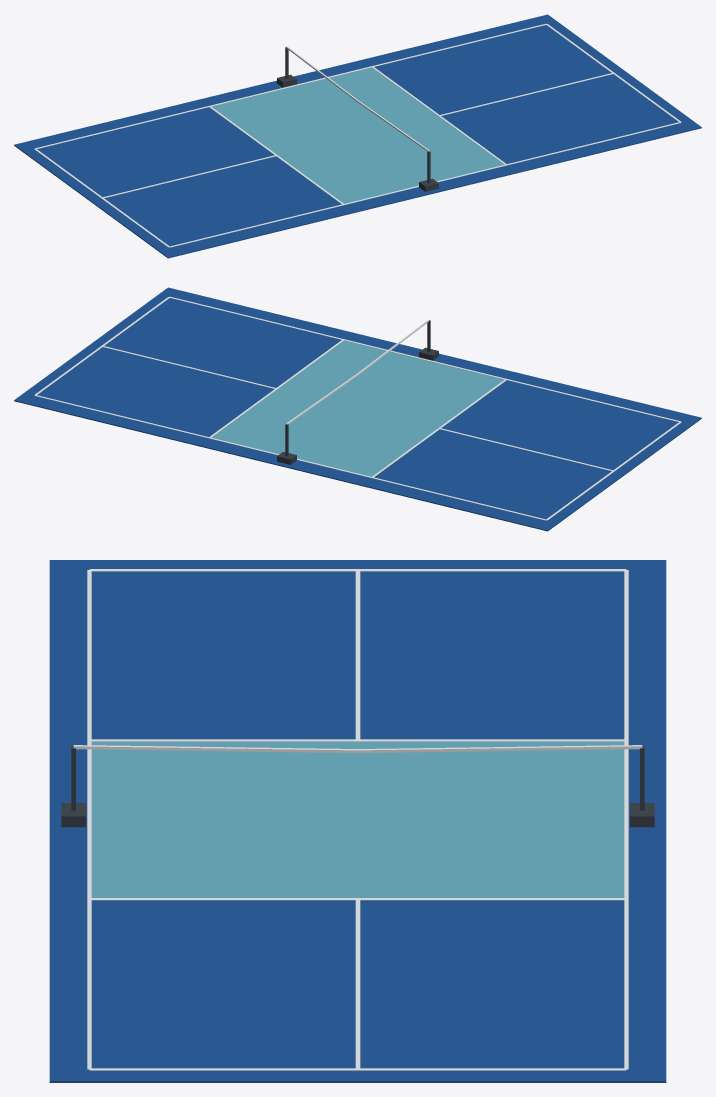
The model's file is court-pickleball.glb.
The picture shows the model from 3 angles, top to bottom: view 1: azimuth 30°, elevation 25°; view 2: azimuth 150°, elevation 25°; view 3: azimuth 270°, elevation 25°; orthographic projection. The views are drawn at different scales.
Visible parts, largest first — view 1: court-surface, court-kitchen, court-marking (×2); view 2: court-surface, court-kitchen, court-marking (×2); view 3: court-surface, court-kitchen, court-marking (×8), net-top-tape (×2).
Boxes of the visible parts, x1=… form: court-surface: x1=14, y1=14, x2=701, y2=258; court-kitchen: x1=212, y1=67, x2=504, y2=203; court-marking (×2): x1=34, y1=23, x2=680, y2=247; court-surface: x1=14, y1=287, x2=701, y2=531; court-kitchen: x1=211, y1=340, x2=503, y2=476; court-marking (×2): x1=35, y1=296, x2=681, y2=520; court-surface: x1=49, y1=560, x2=666, y2=1082; court-kitchen: x1=91, y1=741, x2=624, y2=897; court-marking (×8): x1=87, y1=569, x2=628, y2=1070; net-top-tape (×2): x1=73, y1=745, x2=642, y2=753.
Size of the model in its own units: 14 by 0.9619 by 7.
